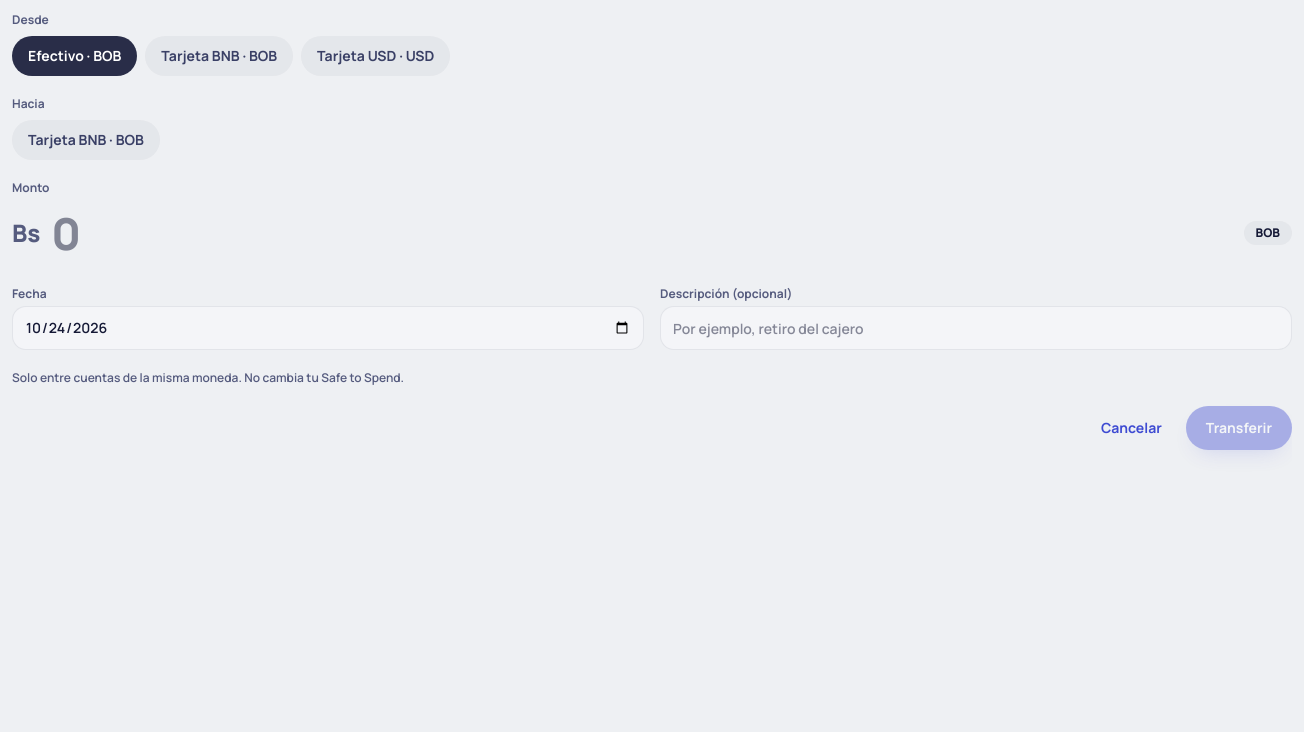
it: TransferForm › RF-16 shows the API's error and keeps what was typed
In the field with placeholder "0": (642, 233) [52,200,1232,266], type "10"
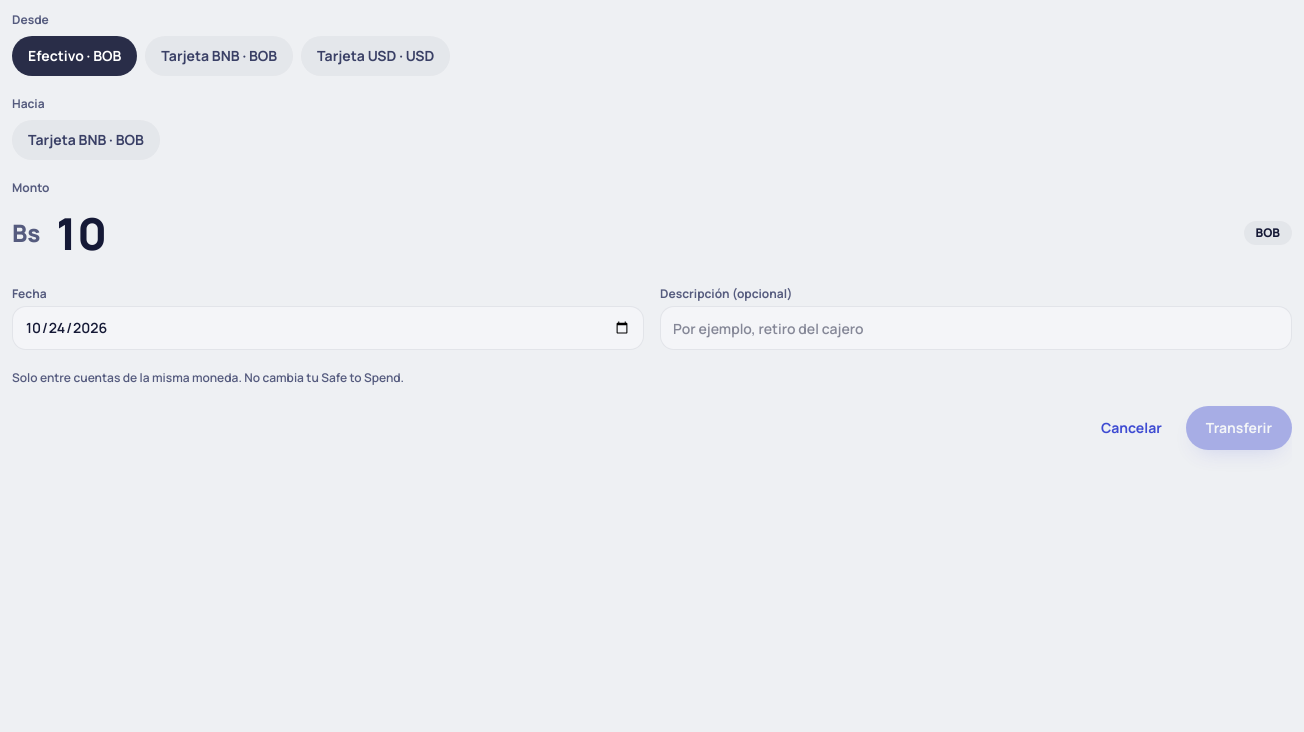
Click the radio button labelled "Tarjeta BNB · BOB" below "Hacia": (86, 140) [12,120,160,160]
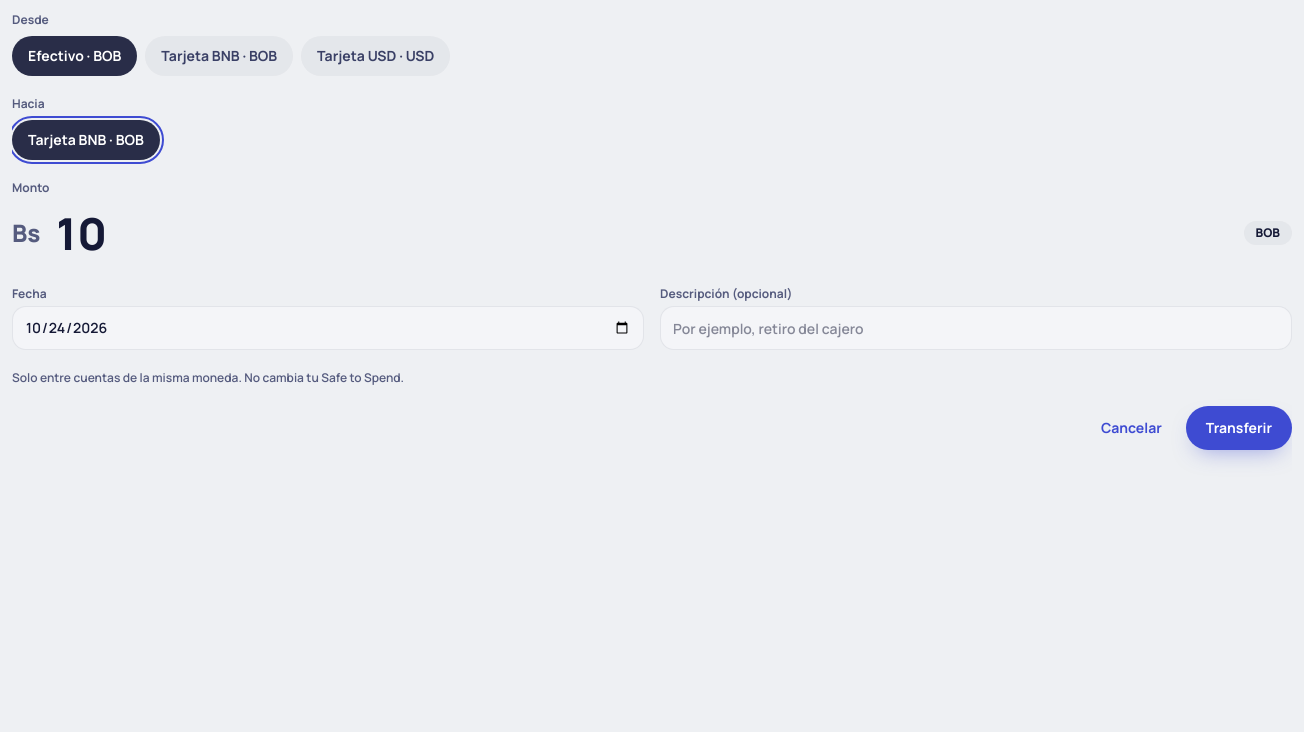
Click the button "Transferir": (1239, 428) [1186,406,1292,450]
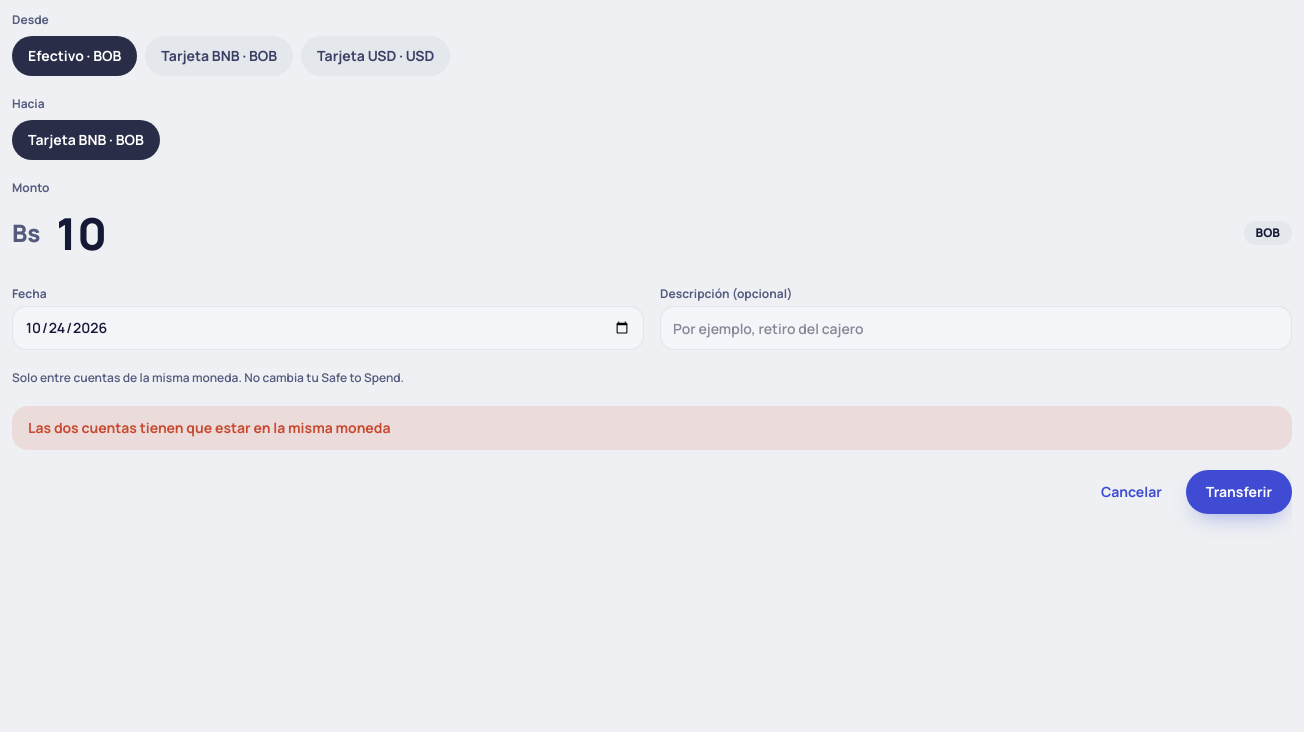
Check: the text "Las dos cuentas tienen que estar en la misma moneda" is shown, box [12,406,1292,450]
